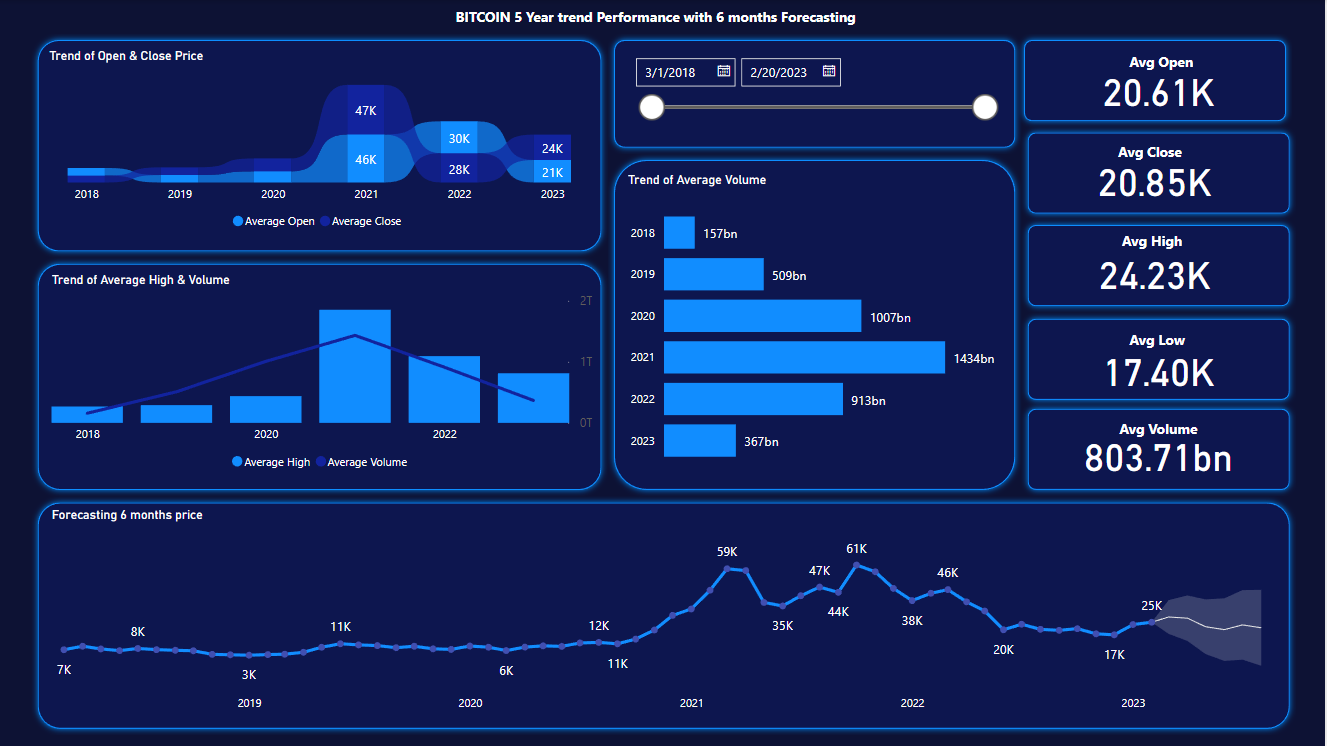

What the dashboard file says about the page in this screenshot:
{"tool":"powerbi","page":{"name":"Page 1","canvas":[1280,720],"ordinal":0},"visuals":[{"type":"shape","box":[31,32,556,216],"z":0},{"type":"shape","box":[31,248,556,230],"z":1000},{"type":"shape","box":[31.1,478.3,1219.9,230.4],"z":2000},{"type":"shape","box":[587,148,399,330],"z":3000},{"type":"shape","box":[587,32,399,116],"z":4000},{"type":"shape","box":[983,32,265,90],"z":5000},{"type":"shape","box":[986,122,265,90],"z":6000},{"type":"shape","box":[986,211,265,90],"z":7000},{"type":"shape","box":[986,301,265,90],"z":8000},{"type":"shape","box":[987,388,265,90],"z":9000},{"type":"ribbonChart","title":"Trend of Open & Close Price","fields":{"Category":["Bitcoin.Date.Variation.Date Hierarchy.Year"],"Y":["Bitcoin.Average Open","Bitcoin.Average Close"]},"box":[43,47,531,184],"z":10000},{"type":"lineClusteredColumnComboChart","title":"Trend of Average High & Volume","fields":{"Category":["Bitcoin.Date.Variation.Date Hierarchy.Year"],"Y":["Bitcoin.Average High"],"Y2":["Bitcoin.Average Volume"]},"box":[46,263,531,200],"z":11000},{"type":"clusteredBarChart","title":"Trend of Average Volume","fields":{"Category":["Bitcoin.Date.Variation.Date Hierarchy.Year"],"Y":["Bitcoin.Average Volume"]},"box":[602,167,371,296],"z":12000},{"type":"card","fields":{"Values":["Bitcoin.Average Open"]},"box":[1024,62,190,49],"z":13000},{"type":"textbox","box":[1086,46,81,30],"z":14000},{"type":"card","fields":{"Values":["Bitcoin.Average Close"]},"box":[1020,148,190,49],"z":15000},{"type":"card","fields":{"Values":["Bitcoin.Average High"]},"box":[1020,239,190,49],"z":16000},{"type":"textbox","box":[1075,133,80,30],"z":17000},{"type":"textbox","box":[1078,218,81,30],"z":18000},{"type":"textbox","box":[1086,313,78,30],"z":19000},{"type":"textbox","box":[1076,399,99,30],"z":20000},{"type":"card","fields":{"Values":["Bitcoin.Average Low"]},"box":[1024,332,190,49],"z":21000},{"type":"card","fields":{"Values":["Bitcoin.Average Volume"]},"box":[1024,414,190,49],"z":22000},{"type":"lineChart","title":"Forecasting 6 months price","fields":{"Category":["Bitcoin.Date.Variation.Date Hierarchy.Year","Bitcoin.Date.Variation.Date Hierarchy.Month"],"Y":["Bitcoin.Average Close"]},"box":[46,490,1189,206],"z":23000},{"type":"slicer","fields":{"Values":["Bitcoin.Date"]},"box":[602,46,371,87],"z":24000},{"type":"textbox","box":[435,2,412,30],"z":25000}]}

Visuals, with their boxes in screenshot pixels (x1, y1, x2, y2), scaled from the page's 1280x720 canvas onto the 1327x746 screenshot:
shape: left=32, top=33, right=609, bottom=257
shape: left=32, top=257, right=609, bottom=495
shape: left=32, top=496, right=1297, bottom=734
shape: left=609, top=153, right=1022, bottom=495
shape: left=609, top=33, right=1022, bottom=153
shape: left=1019, top=33, right=1294, bottom=126
shape: left=1022, top=126, right=1297, bottom=220
shape: left=1022, top=219, right=1297, bottom=312
shape: left=1022, top=312, right=1297, bottom=405
shape: left=1023, top=402, right=1298, bottom=495
"Trend of Open & Close Price" ribbonChart: left=45, top=49, right=595, bottom=239
"Trend of Average High & Volume" lineClusteredColumnComboChart: left=48, top=272, right=598, bottom=480
"Trend of Average Volume" clusteredBarChart: left=624, top=173, right=1009, bottom=480
card - Bitcoin.Average Open: left=1062, top=64, right=1259, bottom=115
textbox: left=1126, top=48, right=1210, bottom=79
card - Bitcoin.Average Close: left=1057, top=153, right=1254, bottom=204
card - Bitcoin.Average High: left=1057, top=248, right=1254, bottom=298
textbox: left=1114, top=138, right=1197, bottom=169
textbox: left=1118, top=226, right=1202, bottom=257
textbox: left=1126, top=324, right=1207, bottom=355
textbox: left=1116, top=413, right=1218, bottom=444
card - Bitcoin.Average Low: left=1062, top=344, right=1259, bottom=395
card - Bitcoin.Average Volume: left=1062, top=429, right=1259, bottom=480
"Forecasting 6 months price" lineChart: left=48, top=508, right=1280, bottom=721
slicer - Bitcoin.Date: left=624, top=48, right=1009, bottom=138
textbox: left=451, top=2, right=878, bottom=33
